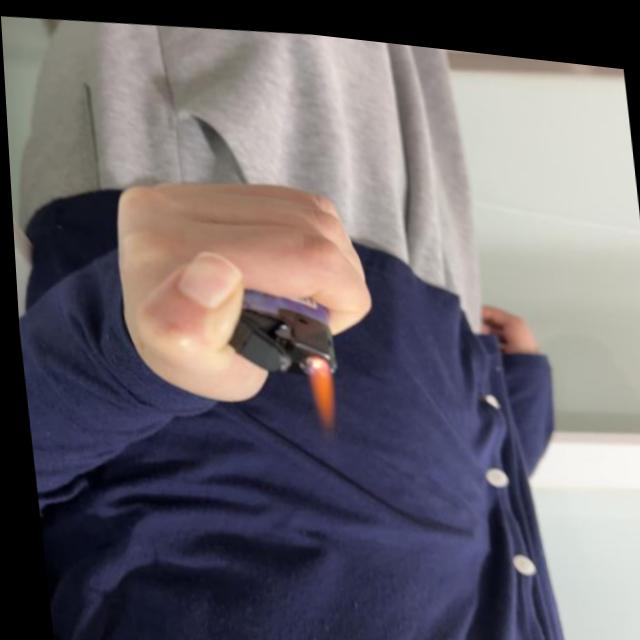Fire: (298, 351, 336, 434)
